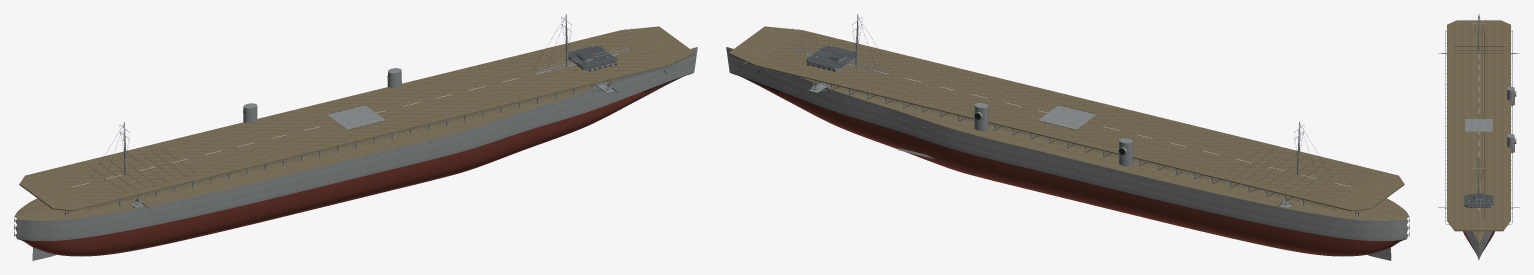
The model's file is langley.glb.
The picture shows the model from 3 angles, left to right: view 1: azimuth 30°, elevation 25°; view 2: azimuth 150°, elevation 25°; view 3: azimuth 270°, elevation 25°; orthographic projection. The views are drawn at different scales.
Parts seen in each view (by area): view 1: Langley; view 2: Langley; view 3: Langley.
Boxes of the visible parts, left/top/right/bottom form: Langley: left=14, top=14, right=697, bottom=260; Langley: left=726, top=14, right=1409, bottom=260; Langley: left=1438, top=14, right=1519, bottom=259.
Size of the model in its own units: 165 by 27.53 by 25.5.
9 materials, 8 textured.
